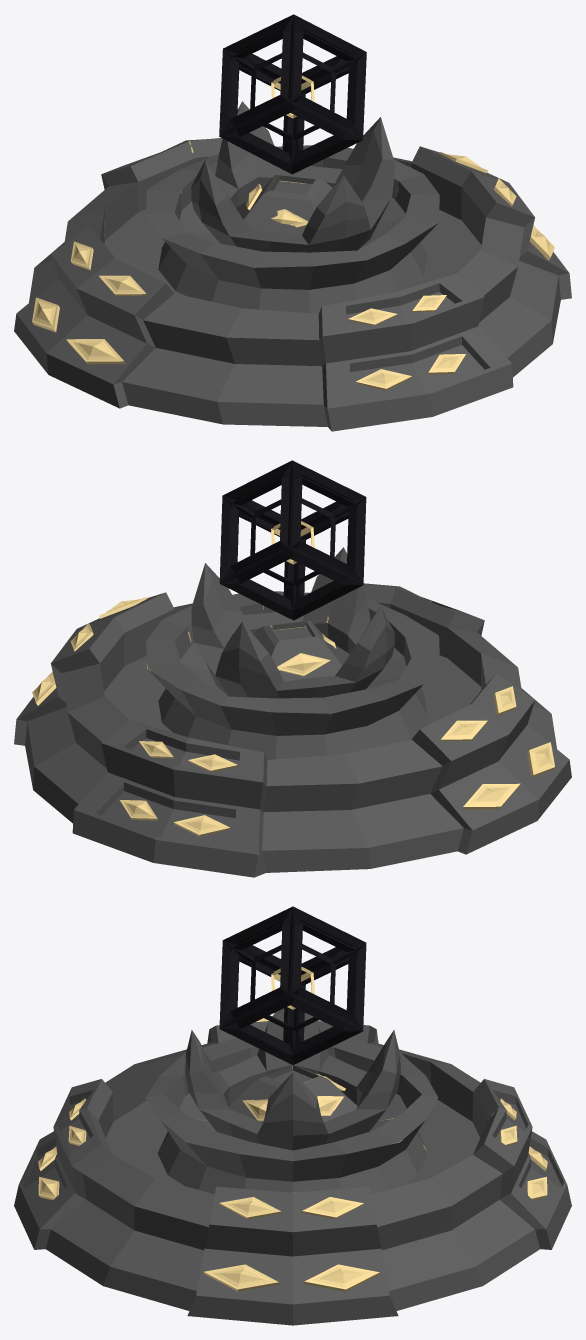
File: CoreMaybe.fbx
The picture shows the model from 3 angles, top to bottom: view 1: azimuth 30°, elevation 25°; view 2: azimuth 150°, elevation 25°; view 3: azimuth 270°, elevation 25°; orthographic projection.
Parts seen in each view (by area): view 1: Base, CubeOut; view 2: Base, CubeOut; view 3: Base, CubeOut.
Boxes of the visible parts, x1,y1,x2,y2 form: Base: (14, 101, 571, 431); CubeOut: (219, 14, 366, 174); Base: (14, 547, 571, 877); CubeOut: (219, 460, 366, 620); Base: (14, 1008, 571, 1325); CubeOut: (219, 906, 366, 1064).
Bounding box in the file's own units: 1025 × 598 × 1007.
Materials: 3 (3 with a texture image).
